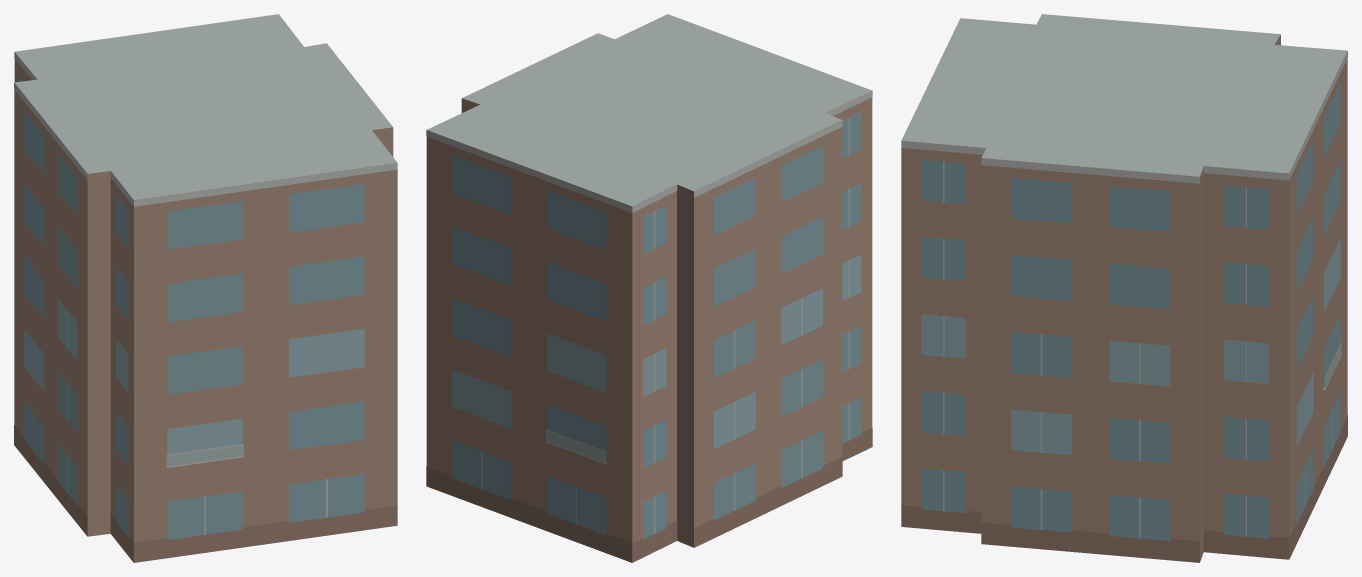
The model's file is survey-upis-32663588.glb.
The picture shows the model from 3 angles, left to right: view 1: azimuth 30°, elevation 25°; view 2: azimuth 150°, elevation 25°; view 3: azimuth 270°, elevation 25°; orthographic projection. The views are drawn at different scales.
Parts seen in each view (by area): view 1: survey-upis-32663588.tmp; view 2: survey-upis-32663588.tmp; view 3: survey-upis-32663588.tmp.
Boxes of the visible parts, x1,y1,x2,y2 form: survey-upis-32663588.tmp: [14, 14, 397, 562]; survey-upis-32663588.tmp: [426, 14, 872, 562]; survey-upis-32663588.tmp: [901, 14, 1347, 562].
Size of the model in its own units: 11.94 by 13.2 by 13.84.
